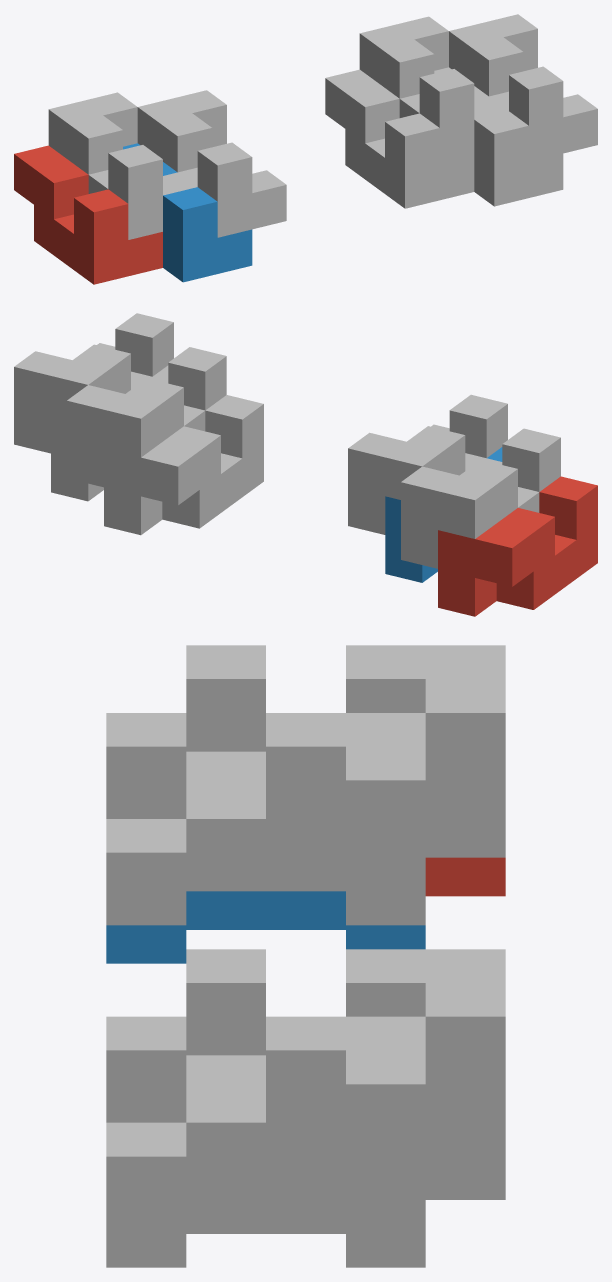
Rendered from tiling.obj.
3 renders of one model, top to bottom at view 1: azimuth 30°, elevation 25°; view 2: azimuth 150°, elevation 25°; view 3: azimuth 270°, elevation 25°, orthographic. The views are drawn at different scales.
Parts seen in each view (by area): view 1: copy_1_domain_5, copy_1_domain_1, copy_1_domain_4, copy_1_domain_8, copy_1_domain_7, copy_1_domain_3, copy_1_domain_2, copy_1_domain_6; view 2: copy_1_domain_5, copy_1_domain_1, copy_1_domain_7, copy_1_domain_3, copy_1_domain_4, copy_1_domain_8, copy_1_domain_2, copy_1_domain_6; view 3: copy_1_domain_8, copy_1_domain_4, copy_1_domain_3, copy_1_domain_7, copy_1_domain_6, copy_1_domain_2, copy_1_domain_1, copy_1_domain_5.
Boxes of the visible parts, box(x1,y1,x2,y2) form: copy_1_domain_5: box(325, 69, 474, 208); copy_1_domain_1: box(14, 145, 162, 284); copy_1_domain_4: box(137, 90, 286, 237); copy_1_domain_8: box(449, 14, 597, 161); copy_1_domain_7: box(359, 16, 508, 163); copy_1_domain_3: box(48, 92, 196, 239); copy_1_domain_2: box(123, 143, 252, 282); copy_1_domain_6: box(434, 67, 563, 206); copy_1_domain_5: box(104, 395, 263, 535); copy_1_domain_1: box(438, 476, 597, 616); copy_1_domain_7: box(66, 347, 226, 487); copy_1_domain_3: box(401, 428, 560, 568); copy_1_domain_4: box(348, 394, 507, 534); copy_1_domain_8: box(14, 313, 173, 453); copy_1_domain_2: box(385, 447, 502, 582); copy_1_domain_6: box(51, 365, 168, 501); copy_1_domain_8: box(106, 1016, 425, 1228); copy_1_domain_4: box(106, 713, 425, 925); copy_1_domain_3: box(186, 645, 505, 857); copy_1_domain_7: box(186, 949, 505, 1161); copy_1_domain_6: box(106, 1195, 425, 1267); copy_1_domain_2: box(106, 891, 425, 963); copy_1_domain_1: box(425, 857, 505, 896); copy_1_domain_5: box(425, 1161, 505, 1199).
Bounding box in the file's own units: 14 × 3 × 5.
